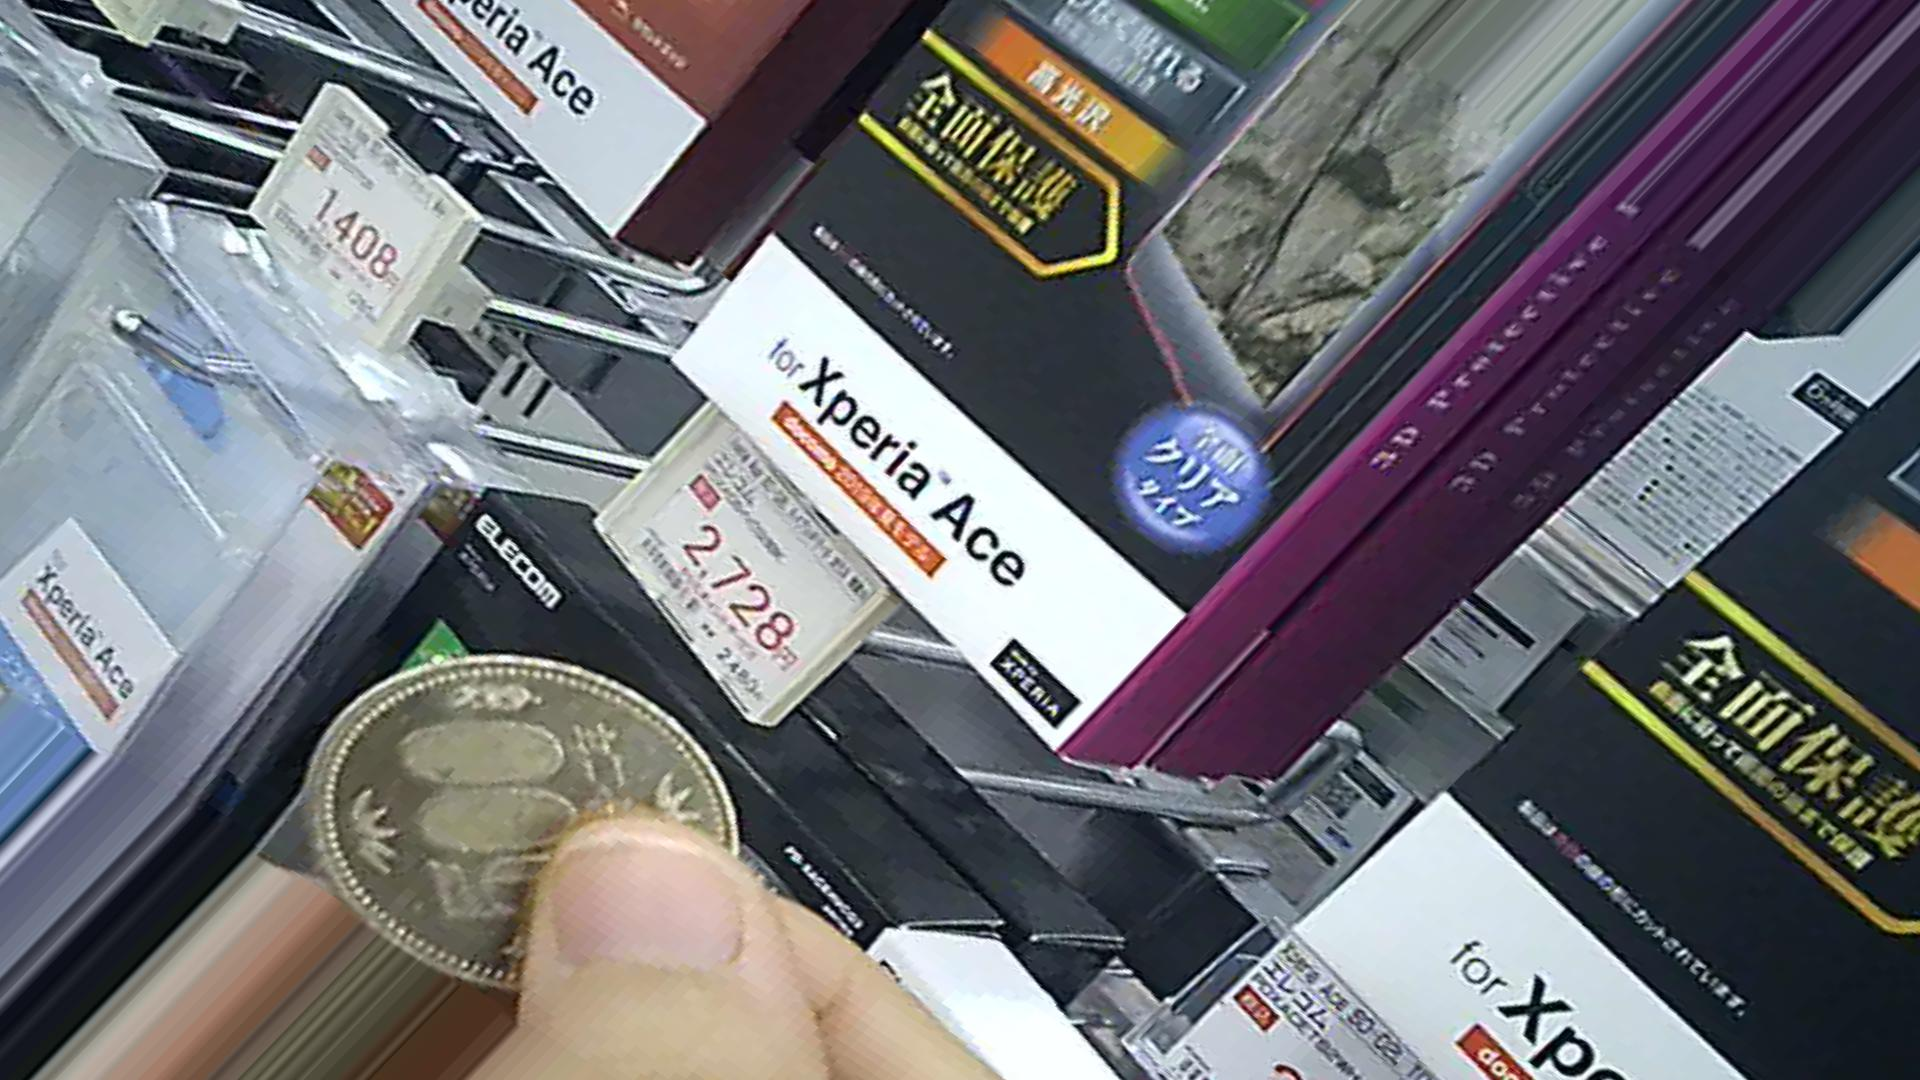500 Yen: (310, 658, 729, 997)
